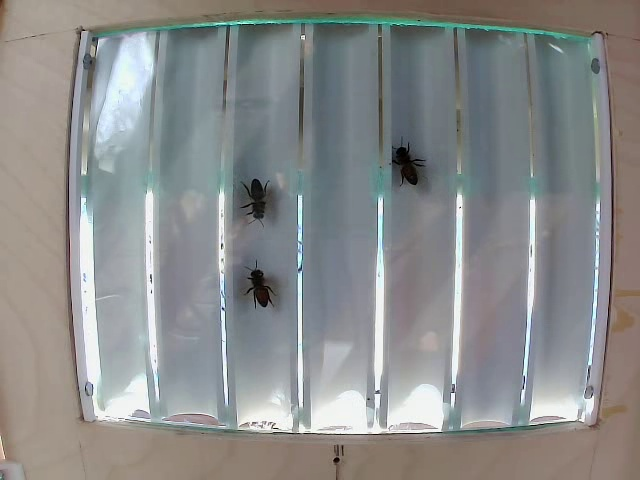bee: (381, 129, 425, 200), (235, 254, 285, 306), (234, 175, 280, 221)
